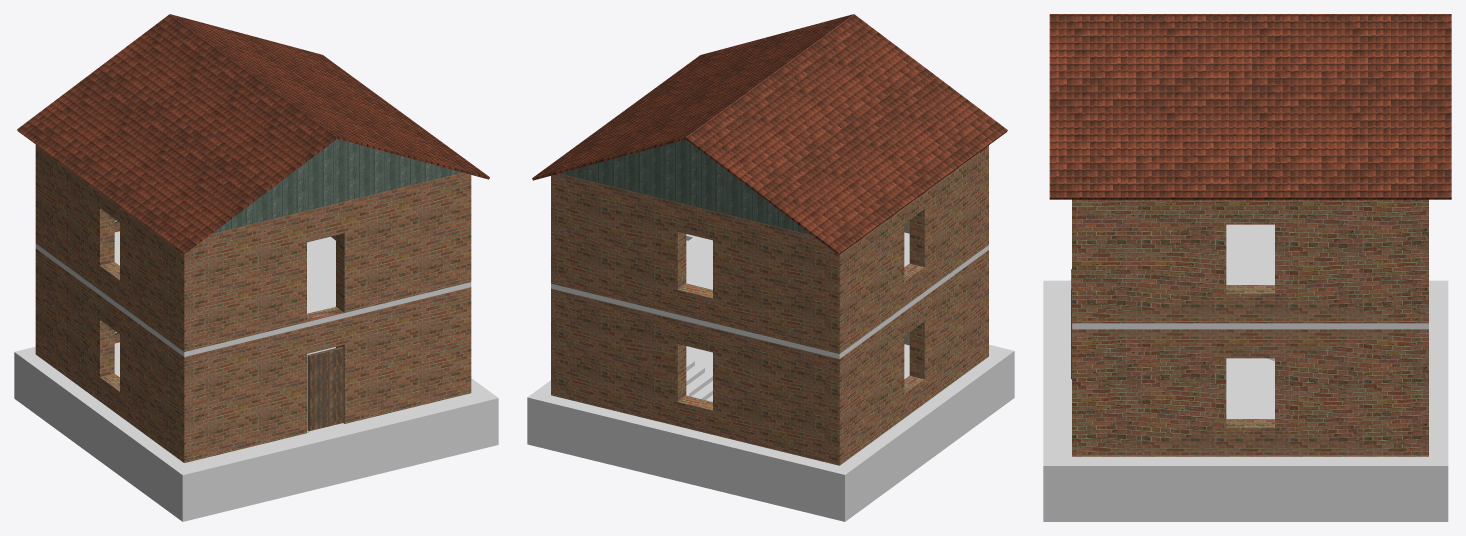
Rendered from house.glb.
The picture shows the model from 3 angles, left to right: view 1: azimuth 30°, elevation 25°; view 2: azimuth 150°, elevation 25°; view 3: azimuth 270°, elevation 25°; orthographic projection. The views are drawn at different scales.
Parts seen in each view (by area): view 1: Roof, Walls_2, Walls, Base, Attic, Floor, Door; view 2: Roof, Walls_2, Walls, Base, Attic, Floor, Stairs; view 3: Roof, Walls, Walls_2, Base, Floor.
Part boxes in pixels (left/top/right/bottom): Roof: left=17, top=14, right=489, bottom=253; Walls_2: left=35, top=145, right=471, bottom=351; Walls: left=35, top=235, right=471, bottom=462; Base: left=14, top=342, right=498, bottom=521; Attic: left=212, top=139, right=461, bottom=233; Floor: left=35, top=231, right=471, bottom=356; Door: left=307, top=346, right=343, bottom=431; Roof: left=532, top=14, right=1007, bottom=254; Walls_2: left=551, top=145, right=988, bottom=353; Walls: left=551, top=250, right=988, bottom=465; Base: left=527, top=344, right=1014, bottom=521; Attic: left=560, top=139, right=811, bottom=234; Floor: left=551, top=232, right=988, bottom=358; Stairs: left=686, top=234, right=712, bottom=401; Roof: left=1049, top=14, right=1451, bottom=199; Walls: left=1072, top=323, right=1428, bottom=456; Walls_2: left=1072, top=199, right=1428, bottom=323; Base: left=1043, top=280, right=1448, bottom=521; Floor: left=1072, top=224, right=1428, bottom=329.
Size of the model in its own units: 14.15 by 14.78 by 13.18.
Materials: 4 (4 with a texture image).
